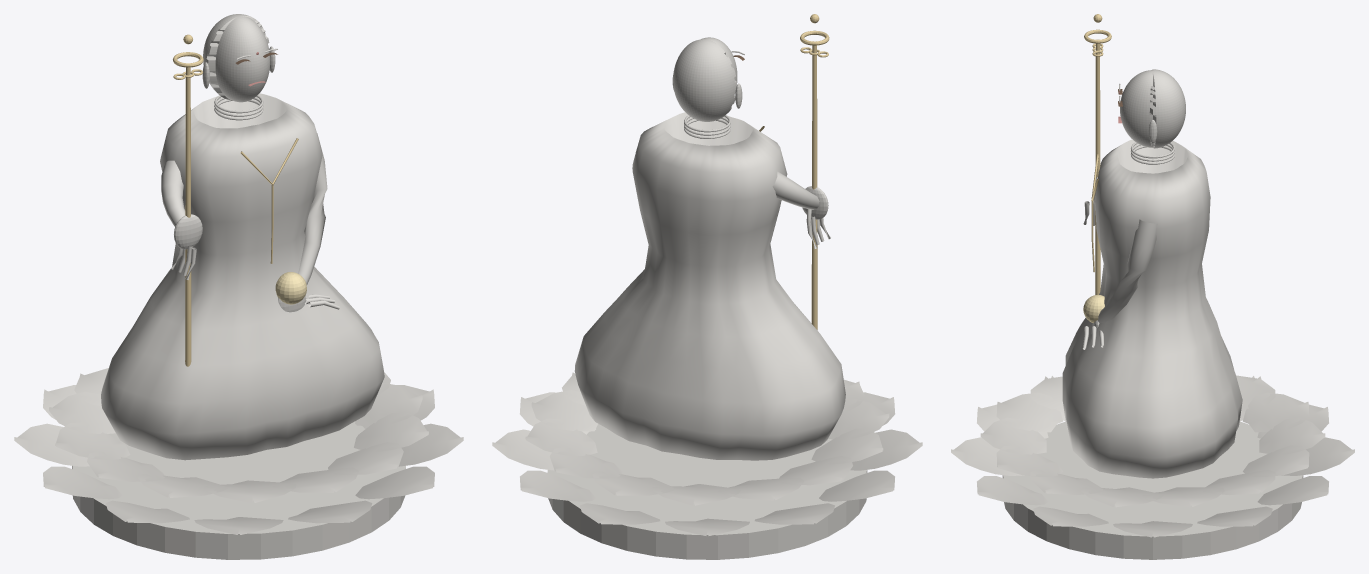
Rendered from ksitigarbha.glb.
3 renders of one model, left to right at view 1: azimuth 30°, elevation 25°; view 2: azimuth 150°, elevation 25°; view 3: azimuth 270°, elevation 25°, orthographic. The views are drawn at different scales.
Visible parts, largest first — view 1: body_ivory, lotusPedestal_ivory, decorativeBase_ivory, head_ivory, mainArms_ivory, mainArms_gold, mainArms_goldLight; view 2: body_ivory, lotusPedestal_ivory, decorativeBase_ivory, head_ivory, mainArms_gold, mainArms_ivory; view 3: body_ivory, lotusPedestal_ivory, decorativeBase_ivory, head_ivory, mainArms_ivory, mainArms_gold.
Boxes of the visible parts, bbox=[...] form: body_ivory: bbox=[101, 93, 384, 460]; lotusPedestal_ivory: bbox=[14, 368, 463, 534]; decorativeBase_ivory: bbox=[72, 421, 405, 559]; head_ivory: bbox=[202, 14, 277, 120]; mainArms_ivory: bbox=[161, 133, 339, 312]; mainArms_gold: bbox=[173, 34, 203, 366]; mainArms_goldLight: bbox=[275, 272, 306, 304]; body_ivory: bbox=[574, 112, 845, 460]; lotusPedestal_ivory: bbox=[492, 372, 922, 535]; decorativeBase_ivory: bbox=[547, 424, 867, 559]; head_ivory: bbox=[672, 37, 744, 138]; mainArms_gold: bbox=[800, 14, 829, 329]; mainArms_ivory: bbox=[635, 151, 830, 248]; body_ivory: bbox=[1062, 139, 1242, 478]; lotusPedestal_ivory: bbox=[951, 375, 1354, 537]; decorativeBase_ivory: bbox=[1002, 421, 1303, 559]; head_ivory: bbox=[1119, 69, 1185, 164]; mainArms_ivory: bbox=[1082, 177, 1157, 349]; mainArms_gold: bbox=[1084, 14, 1111, 294].
Bounding box in the file's own units: 2.2 × 2.68 × 2.2.
